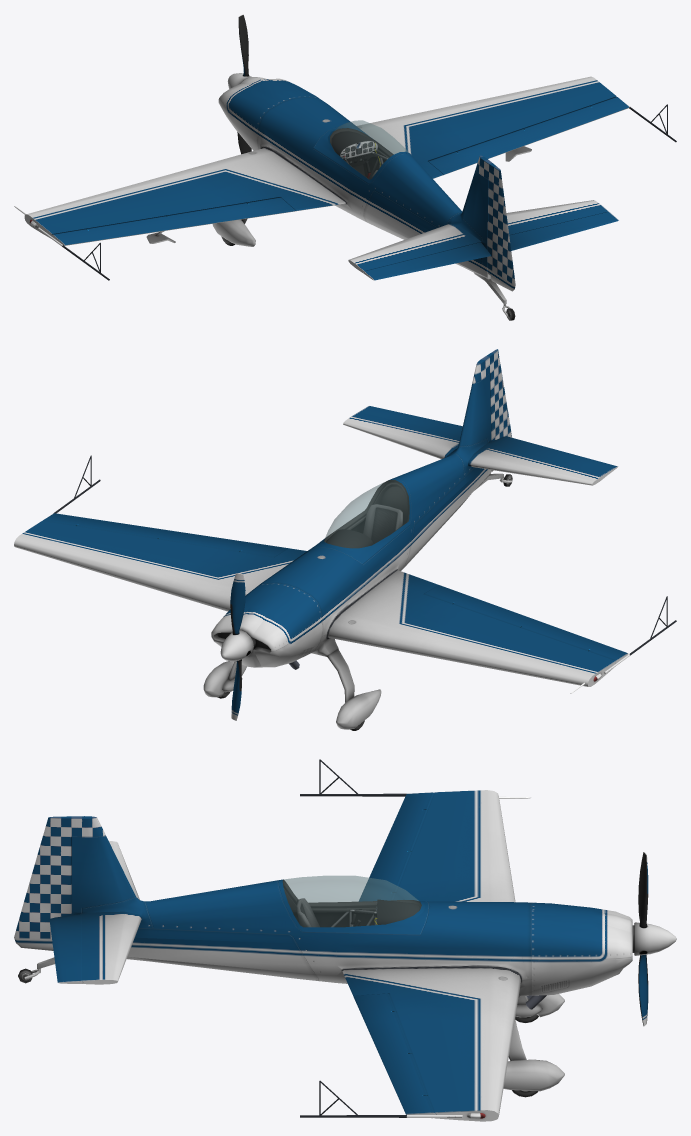
3 views of the same model, one above another, from view 1: azimuth 30°, elevation 25°; view 2: azimuth 150°, elevation 25°; view 3: azimuth 270°, elevation 25° (orthographic). The views are drawn at different scales.
Parts seen in each view (by area): view 1: chassis, aileron_l, aileron_r, elevator, rudder, glass, cockpit, canopy_chassis, propeller; view 2: chassis, glass, aileron_l, cockpit, aileron_r, elevator, rudder, propeller, canopy_chassis, propeller_hub; view 3: chassis, glass, rudder, aileron_r, aileron_l, cockpit, elevator, canopy_chassis, propeller, propeller_hub, canopy_cockpit.
Boxes of the visible parts, <box> form: chassis: <box>14,76,676,304</box>; aileron_l: <box>51,197,294,245</box>; aileron_r: <box>428,97,628,175</box>; elevator: <box>363,212,618,280</box>; rudder: <box>475,155,515,291</box>; glass: <box>330,120,408,179</box>; cockpit: <box>331,131,388,179</box>; canopy_chassis: <box>313,126,410,183</box>; propeller: <box>237,14,251,154</box>; chassis: <box>14,373,676,729</box>; glass: <box>324,480,409,547</box>; aileron_l: <box>424,585,628,663</box>; cockpit: <box>326,482,407,548</box>; aileron_r: <box>42,513,288,557</box>; elevator: <box>359,406,618,474</box>; rudder: <box>472,349,511,471</box>; propeller: <box>230,573,245,720</box>; canopy_chassis: <box>308,479,411,564</box>; propeller_hub: <box>220,630,253,661</box>; chassis: <box>37,759,634,1121</box>; glass: <box>283,875,421,926</box>; rudder: <box>14,816,105,950</box>; aileron_r: <box>353,993,436,1118</box>; aileron_l: <box>359,792,434,901</box>; cockpit: <box>283,888,419,927</box>; elevator: <box>49,914,82,983</box>; canopy_chassis: <box>277,879,429,934</box>; propeller: <box>638,852,648,1026</box>; propeller_hub: <box>634,922,676,955</box>; canopy_cockpit: <box>282,879,421,910</box>.
Bounding box in the file's own units: 6.1 × 2.13 × 5.3.
Materials: 8 (5 with a texture image).
